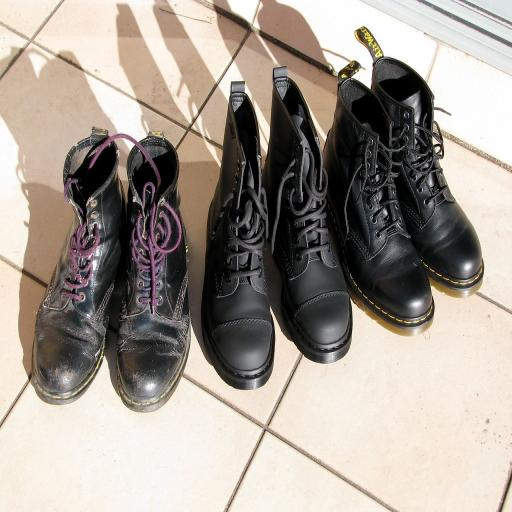boots: (356, 27, 484, 296), (323, 65, 434, 333), (264, 66, 352, 363), (32, 129, 125, 403), (202, 82, 274, 389), (117, 132, 191, 411)
